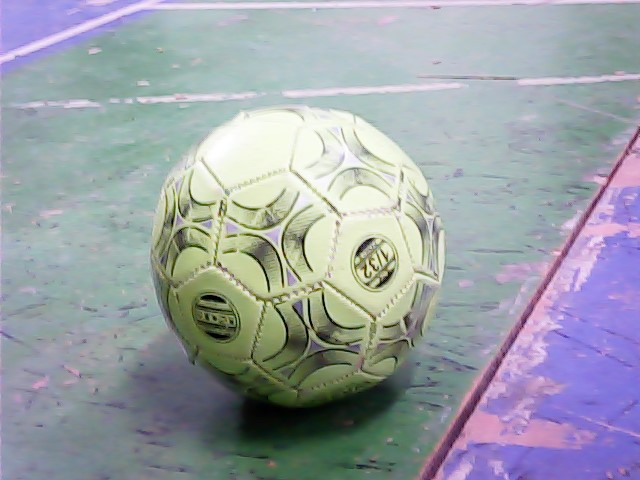Green_ball: (148, 99, 458, 407)
